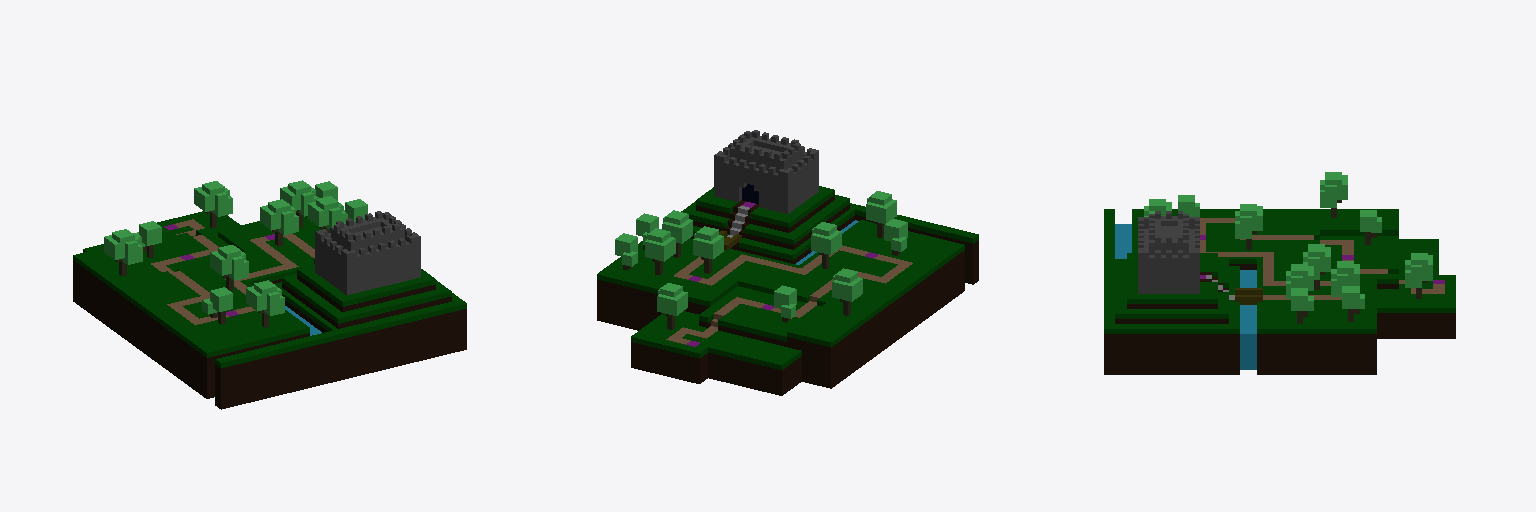
3 views of the same model, side by side, from view 1: azimuth 30°, elevation 25°; view 2: azimuth 150°, elevation 25°; view 3: azimuth 270°, elevation 25° (orthographic).
Visible parts, largest first — view 1: Element #1, Element #132, Element #3, Element #10, Element #4, Element #26, Element #19, Element #174, Element #7, Element #160, Element #83, Element #27 (+2 smaller); view 2: Element #3, Element #132, Element #4, Element #83, Element #7, Element #84, Element #160, Element #174, Element #1, Element #82, Element #19, Element #5 (+8 smaller); view 3: Element #3, Element #2, Element #4, Element #83, Element #132, Element #10, Element #5, Element #7, Element #19, Element #1, Element #27, Element #160 (+4 smaller).
Part boxes in pixels (left/top/right/bottom): Element #1: left=215, top=299, right=466, bottom=409; Element #132: left=144, top=282, right=309, bottom=362; Element #3: left=116, top=238, right=314, bottom=352; Element #10: left=284, top=276, right=451, bottom=328; Element #4: left=85, top=236, right=228, bottom=331; Element #26: left=344, top=241, right=420, bottom=294; Element #19: left=300, top=267, right=435, bottom=311; Element #174: left=153, top=324, right=214, bottom=398; Element #7: left=218, top=216, right=322, bottom=251; Element #160: left=73, top=248, right=156, bottom=288; Element #83: left=83, top=215, right=240, bottom=252; Element #27: left=318, top=241, right=406, bottom=292; Element #3: left=638, top=239, right=901, bottom=356; Element #132: left=800, top=220, right=964, bottom=300; Element #4: left=597, top=280, right=873, bottom=379; Element #83: left=639, top=316, right=801, bottom=395; Element #7: left=597, top=256, right=737, bottom=306; Element #84: left=631, top=331, right=707, bottom=383; Element #160: left=787, top=303, right=870, bottom=347; Element #174: left=911, top=255, right=964, bottom=329; Element #1: left=850, top=203, right=978, bottom=284; Element #82: left=660, top=311, right=842, bottom=388; Element #19: left=700, top=186, right=834, bottom=230; Element #5: left=690, top=209, right=854, bottom=263; Element #3: left=1257, top=209, right=1313, bottom=374; Element #2: left=1115, top=224, right=1239, bottom=374; Element #4: left=1314, top=236, right=1376, bottom=374; Element #83: left=1399, top=239, right=1438, bottom=338; Element #132: left=1132, top=209, right=1256, bottom=269; Element #10: left=1115, top=259, right=1222, bottom=323; Element #5: left=1115, top=266, right=1239, bottom=338; Element #7: left=1320, top=274, right=1376, bottom=333; Element #19: left=1127, top=253, right=1211, bottom=308; Element #1: left=1104, top=209, right=1114, bottom=374; Element #27: left=1144, top=229, right=1194, bottom=293; Element #160: left=1320, top=209, right=1398, bottom=235.
Bounding box in the file's own units: 12.9 × 5.94 × 16.
Materials: 1 (1 with a texture image).